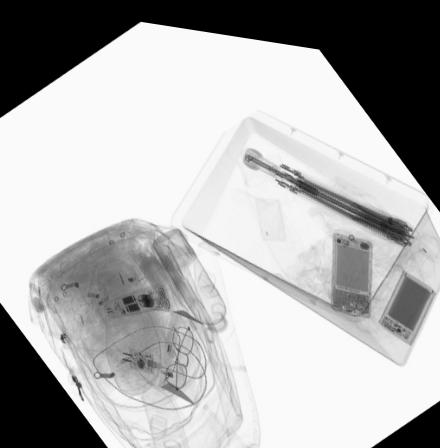Powerbank: (376, 259, 434, 333)
